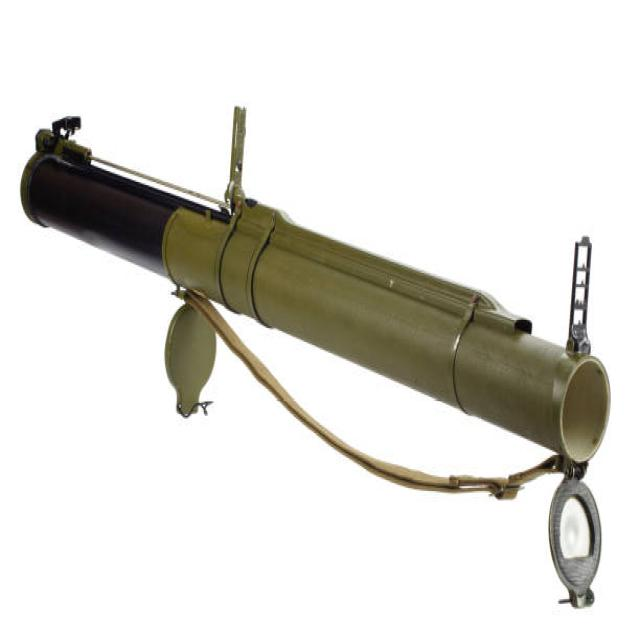bazooka: (11, 93, 619, 618)
